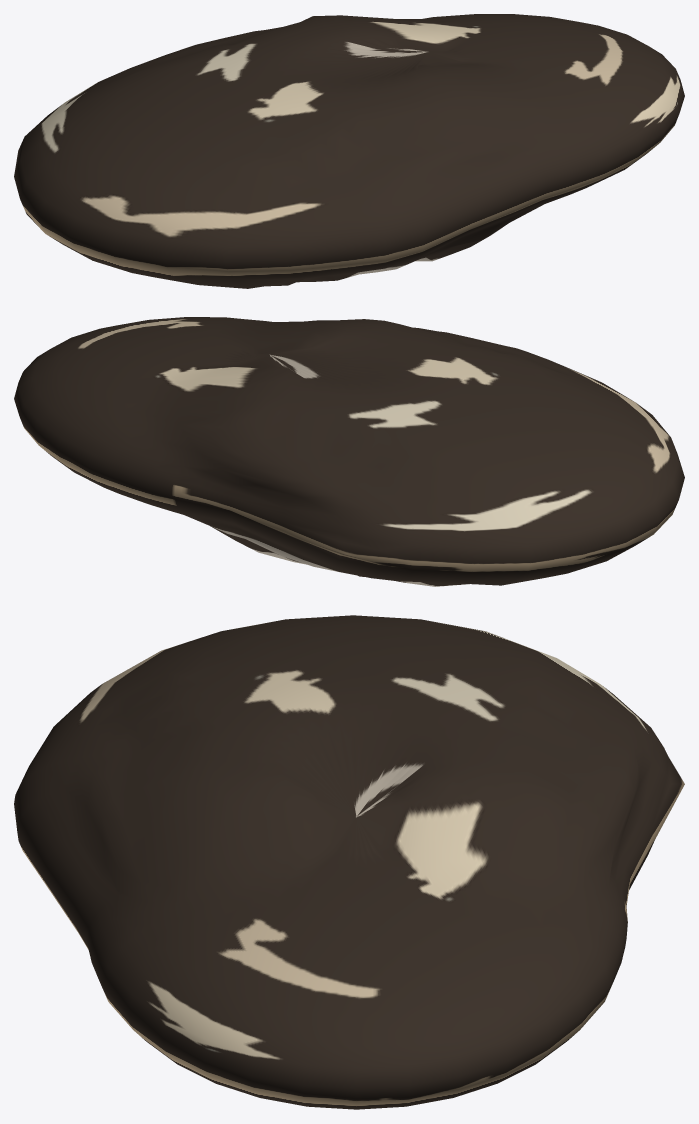
The model's file is sunseed_2.FBX.
3 views of the same model, one above another, from view 1: azimuth 30°, elevation 25°; view 2: azimuth 150°, elevation 25°; view 3: azimuth 270°, elevation 25° (orthographic). The views are drawn at different scales.
Parts seen in each view (by area): view 1: Sphere001; view 2: Sphere001; view 3: Sphere001.
Boxes of the visible parts, left/top/right/bottom form: Sphere001: left=14, top=14, right=684, bottom=288; Sphere001: left=14, top=317, right=684, bottom=586; Sphere001: left=14, top=615, right=684, bottom=1109.
Bounding box in the file's own units: 40.19 × 9.75 × 25.7.
Materials: 1 (1 with a texture image).
